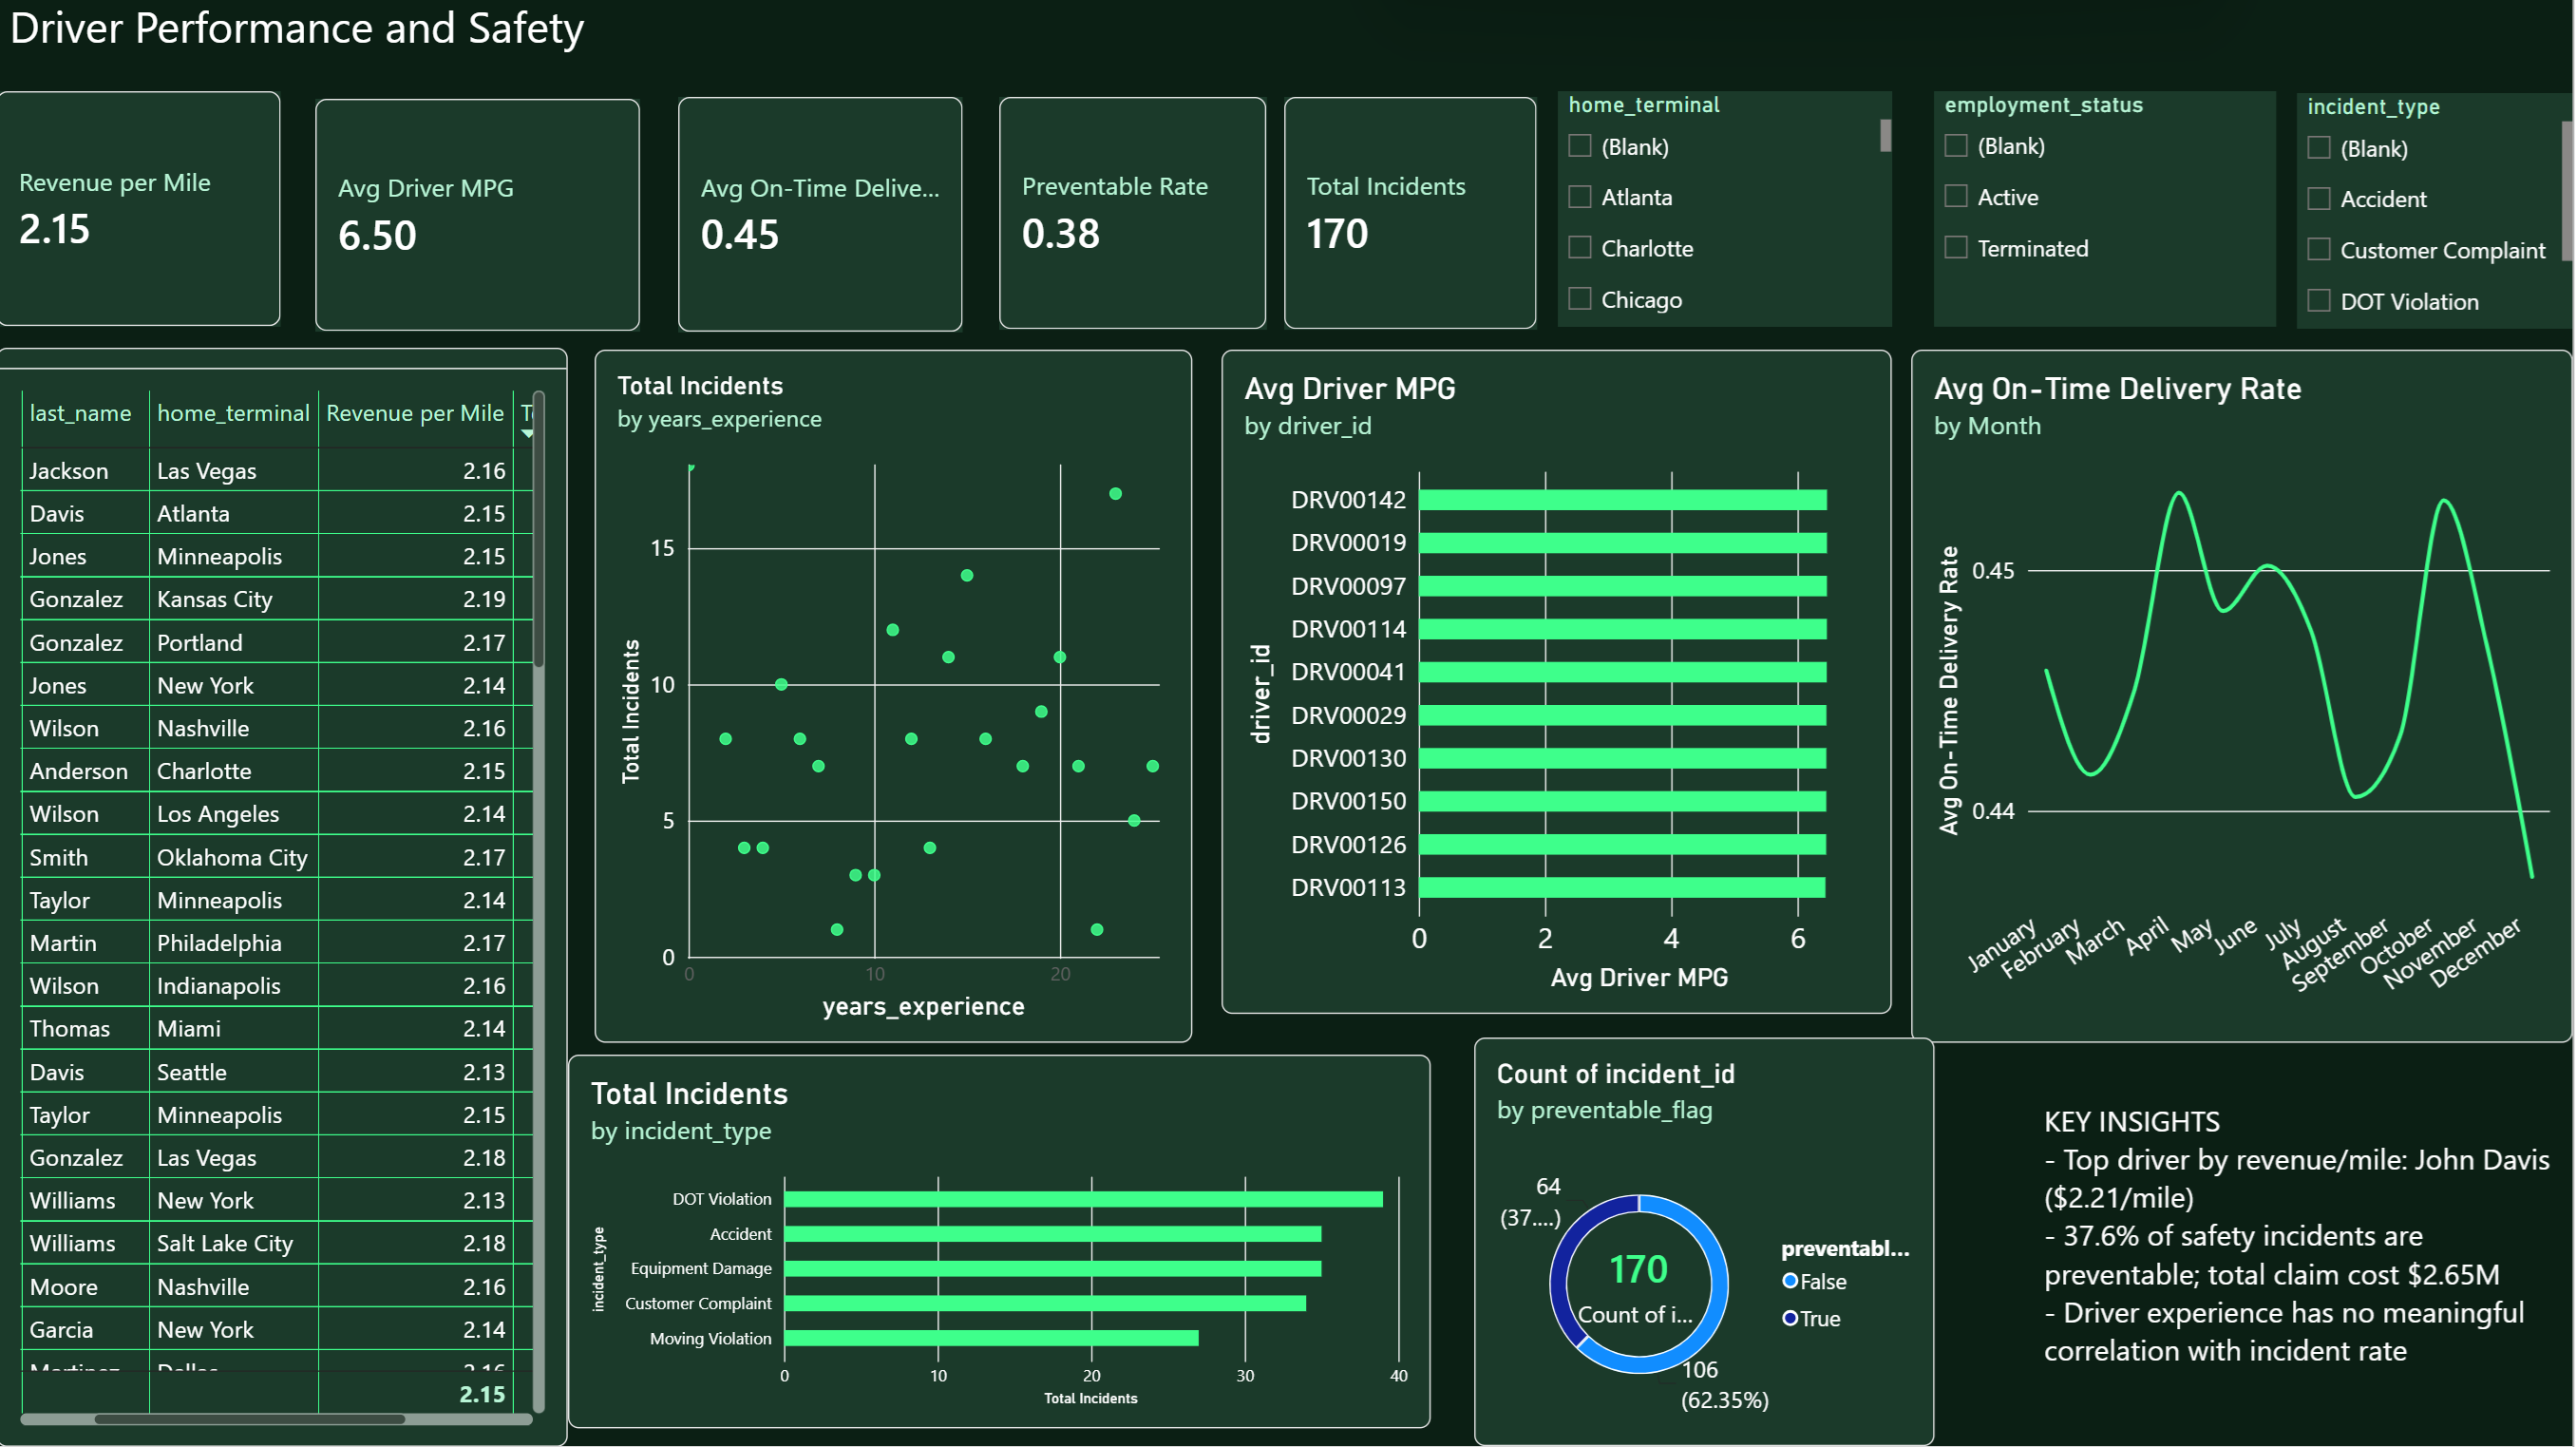

The dashboard page shown, as its layout file describes it:
{"tool":"powerbi","page":{"name":"Page 3","canvas":[1920,1080],"ordinal":2},"visuals":[{"type":"textbox","box":[9.5,0,457,44.4],"z":0},{"type":"textbox","box":[1526.5,804.5,395.1,279.3],"z":1000},{"type":"cardVisual","fields":{"Data":["driver_monthly_metrics.Avg On-Time Delivery Rate"]},"box":[507.9,75,212.1,175.7],"z":2000},{"type":"cardVisual","fields":{"Data":["driver_monthly_metrics.Avg Driver MPG"]},"box":[237.9,77.1,242.1,173.6],"z":3000},{"type":"cardVisual","fields":{"Data":["driver_monthly_metrics.Revenue per Mile"]},"box":[0,70.7,212.1,175.7],"z":4000},{"type":"cardVisual","fields":{"Data":["safety_incidents.Total Incidents"]},"box":[960,75,188.6,173.6],"z":6000},{"type":"cardVisual","fields":{"Data":["safety_incidents.Preventable Rate"]},"box":[747.9,75,199.3,173.6],"z":7000},{"type":"slicer","fields":{"Values":["drivers.home_terminal"]},"box":[1163.6,70.7,248.6,175.7],"z":8000},{"type":"slicer","fields":{"Values":["drivers.employment_status"]},"box":[1444.3,70.7,255,175.7],"z":9000},{"type":"slicer","fields":{"Values":["safety_incidents.incident_type"]},"box":[1714.3,72.9,205.7,175.7],"z":10000},{"type":"tableEx","fields":{"Values":["drivers.first_name","drivers.last_name","drivers.home_terminal","driver_monthly_metrics.Revenue per Mile","driver_monthly_metrics.Total Driver Revenue"]},"box":[0,261.7,425.9,819.2],"z":11000},{"type":"lineChart","fields":{"Category":["driver_monthly_metrics.month.Variation.Date Hierarchy.Month"],"Y":["driver_monthly_metrics.Avg On-Time Delivery Rate"]},"box":[1427.1,263.6,492.9,516.4],"z":12000},{"type":"clusteredBarChart","fields":{"Category":["safety_incidents.incident_type"],"Y":["safety_incidents.Total Incidents"]},"box":[426.4,788.6,642.9,278.6],"z":13000},{"type":"donutChart","fields":{"Category":["safety_incidents.preventable_flag"],"Y":["CountNonNull(safety_incidents.incident_id)"]},"box":[1101.4,775.7,342.9,304.3],"z":14000},{"type":"scatterChart","fields":{"X":["drivers.years_experience"],"Y":["safety_incidents.Total Incidents"]},"box":[445.7,263.6,445.7,516.4],"z":15000},{"type":"clusteredBarChart","fields":{"Category":["drivers.driver_id"],"Y":["driver_monthly_metrics.Avg Driver MPG"]},"box":[912.9,263.6,499.3,495],"z":16000}]}

Visuals, with their boxes in screenshot pixels (x1, y1, x2, y2), scaled from the page's 1920x1080 canvas onto the 2576x1447 screenshot:
textbox: l=12, t=0, r=626, b=60
textbox: l=2048, t=1077, r=2575, b=1446
cardVisual - driver_monthly_metrics.Avg On-Time Delivery Rate: l=681, t=101, r=966, b=336
cardVisual - driver_monthly_metrics.Avg Driver MPG: l=319, t=104, r=644, b=336
cardVisual - driver_monthly_metrics.Revenue per Mile: l=0, t=95, r=285, b=330
cardVisual - safety_incidents.Total Incidents: l=1288, t=101, r=1541, b=333
cardVisual - safety_incidents.Preventable Rate: l=1003, t=101, r=1271, b=333
slicer - drivers.home_terminal: l=1562, t=95, r=1895, b=330
slicer - drivers.employment_status: l=1938, t=95, r=2280, b=330
slicer - safety_incidents.incident_type: l=2300, t=98, r=2575, b=333
tableEx - drivers.first_name x drivers.last_name: l=0, t=351, r=572, b=1446
lineChart - driver_monthly_metrics.month.Variation.Date Hierarchy.Month x driver_monthly_metrics.Avg On-Time Delivery Rate: l=1915, t=353, r=2575, b=1045
clusteredBarChart - safety_incidents.incident_type x safety_incidents.Total Incidents: l=572, t=1057, r=1434, b=1430
donutChart - safety_incidents.preventable_flag x CountNonNull(safety_incidents.incident_id): l=1478, t=1039, r=1938, b=1446
scatterChart - drivers.years_experience x safety_incidents.Total Incidents: l=598, t=353, r=1196, b=1045
clusteredBarChart - drivers.driver_id x driver_monthly_metrics.Avg Driver MPG: l=1224, t=353, r=1895, b=1017
